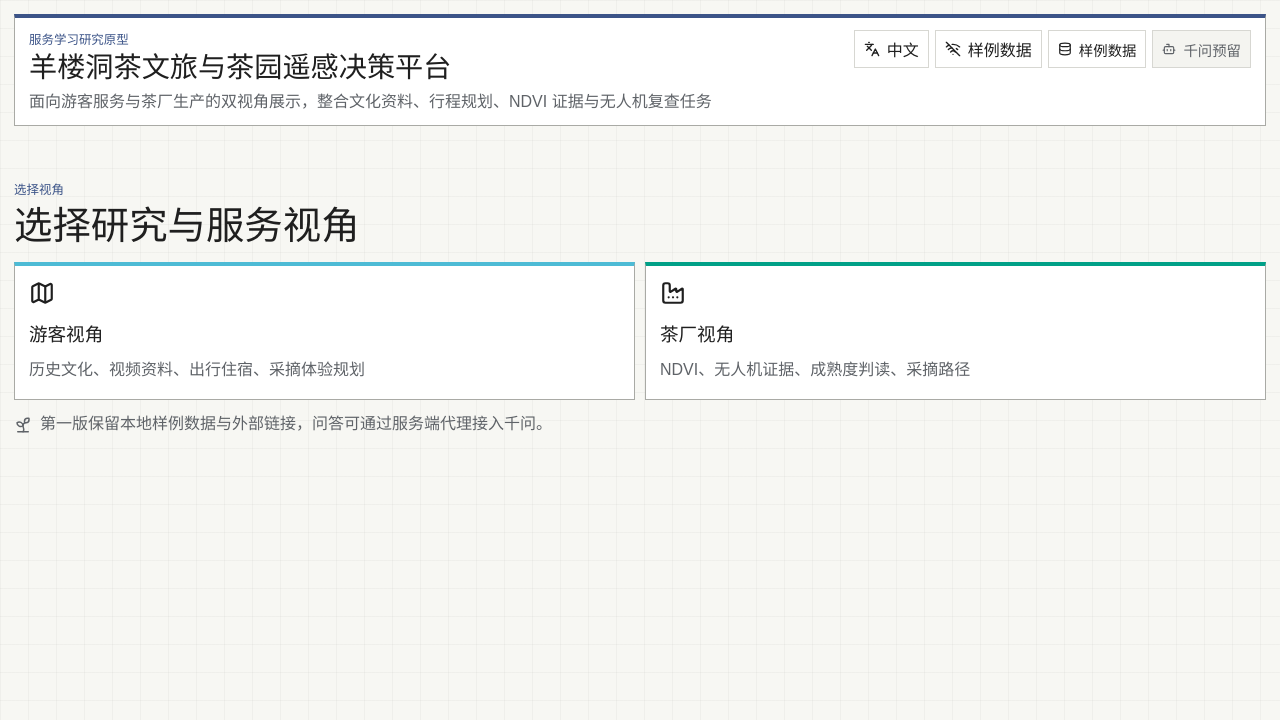
Test: App › sends perspective context to a configured Qwen proxy in remote mode
Click the button with aria-label "切换联网模式" at (988, 49), box [935,30,1042,68]
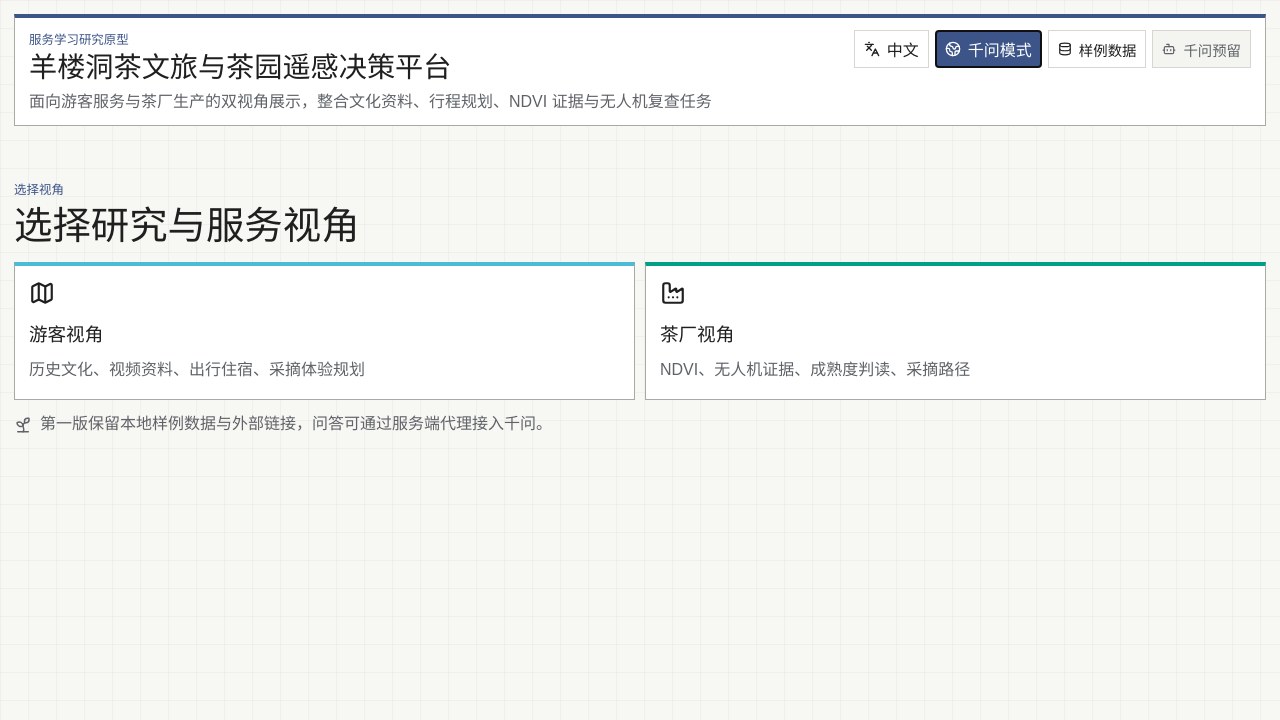
Click the button "茶厂视角 NDVI、无人机证据、成熟度判读、采摘路径" at (697, 334), box [645,262,1266,400]
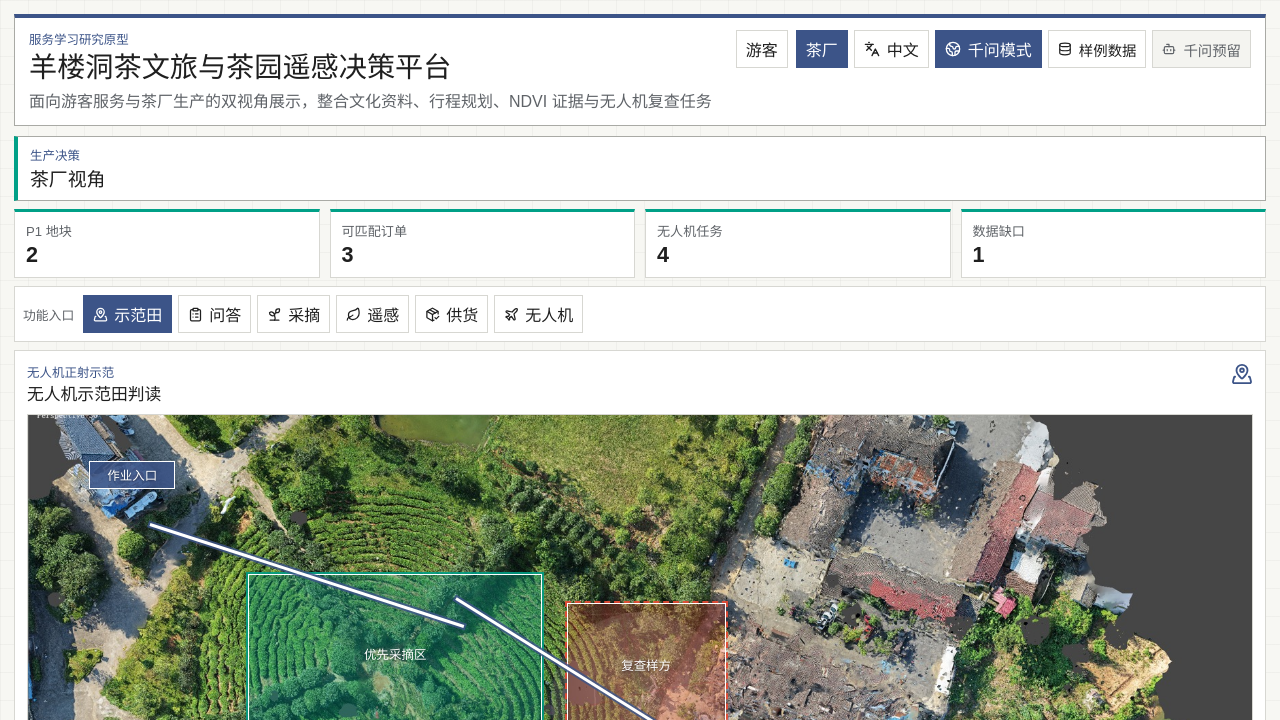
Click the button "问答" at (215, 314), box [178,295,251,333]
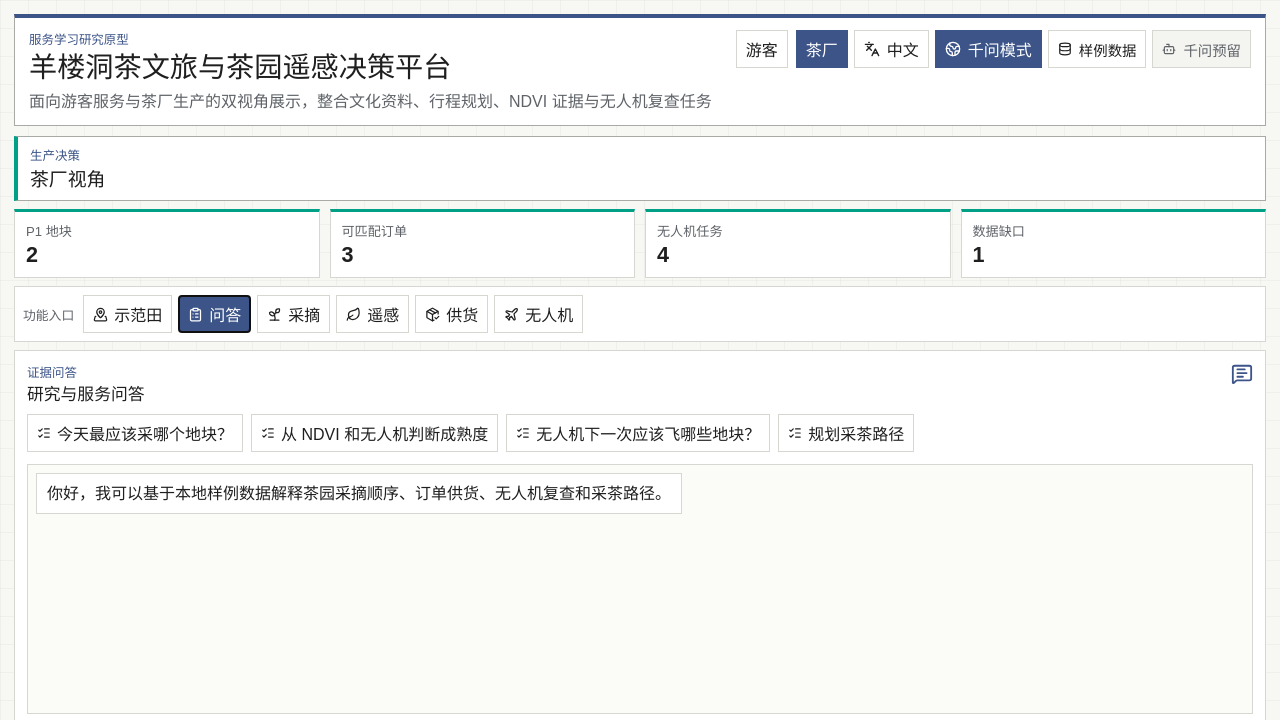
Click the button "从 NDVI 和无人机判断成熟度" at (375, 433), box [251,414,498,452]
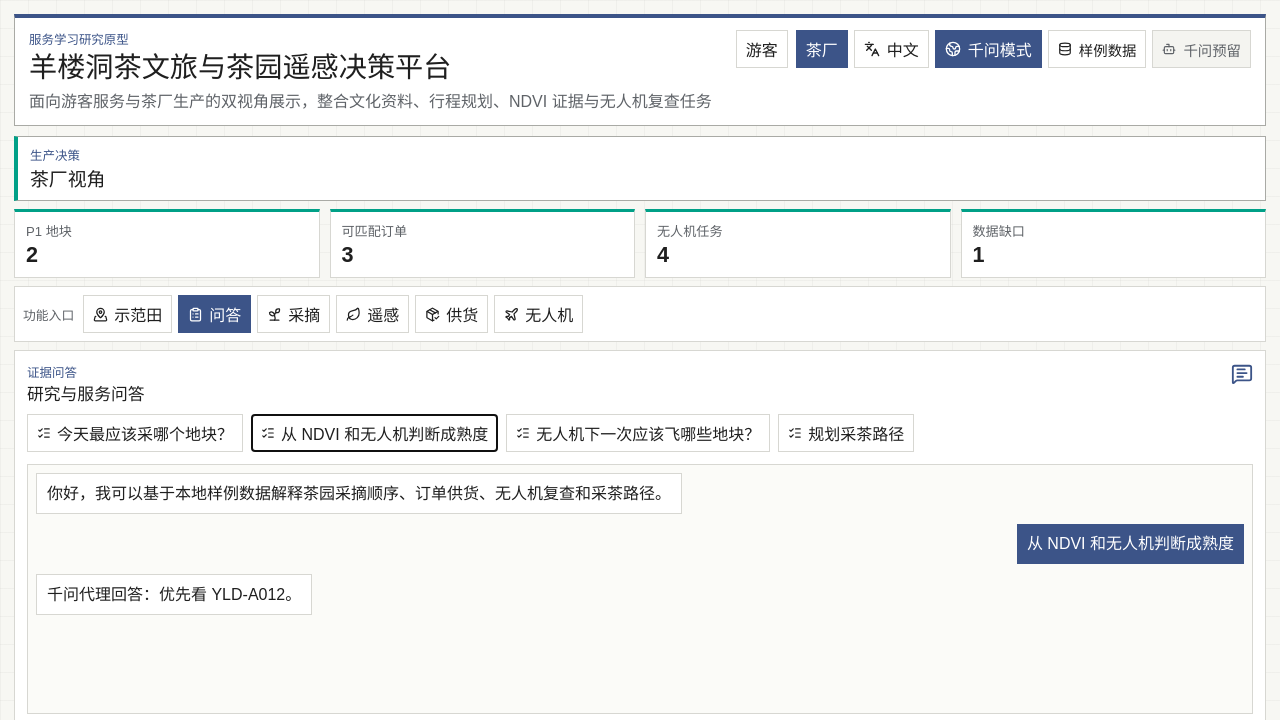
Expected: the text "千问代理回答：优先看 YLD-A012。" is shown, [36,574,312,615]
